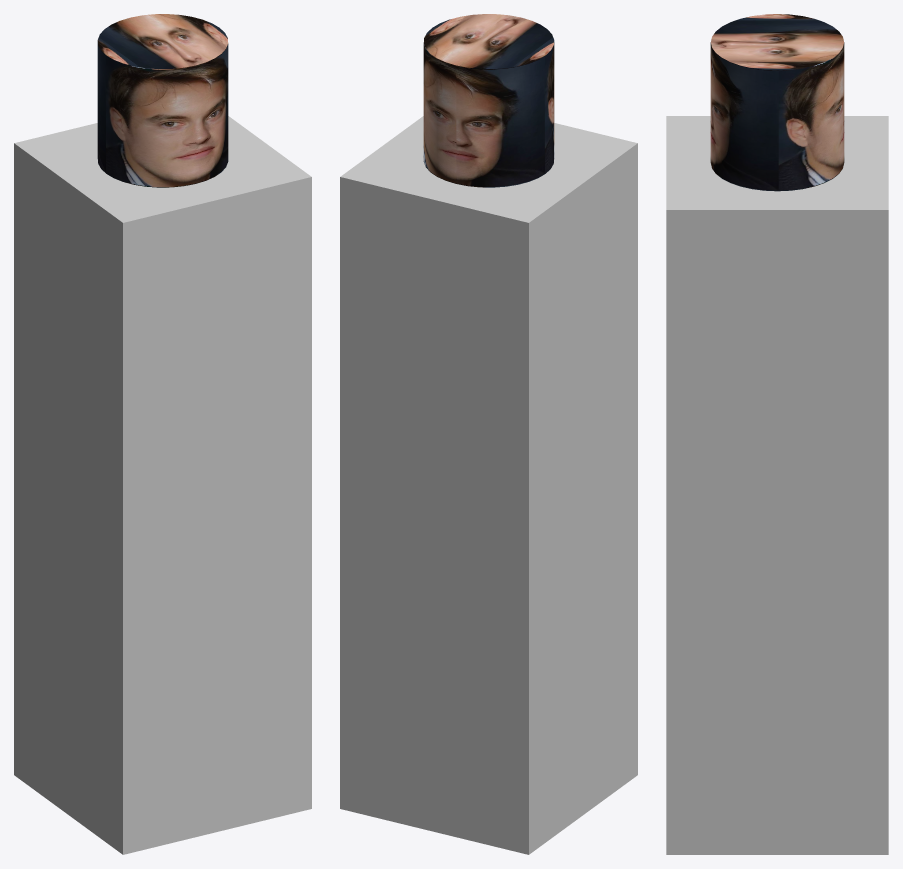
Rendered from Person2.dae.
The picture shows the model from 3 angles, left to right: view 1: azimuth 30°, elevation 25°; view 2: azimuth 150°, elevation 25°; view 3: azimuth 270°, elevation 25°; orthographic projection. The views are drawn at different scales.
Visible parts, largest first — view 1: 立方体, 柱体; view 2: 立方体, 柱体; view 3: 立方体, 柱体.
Part boxes in pixels (x1,y1,x2,y2): 立方体: [14, 116, 311, 854]; 柱体: [97, 14, 228, 187]; 立方体: [340, 116, 637, 854]; 柱体: [423, 14, 554, 187]; 立方体: [666, 116, 888, 854]; 柱体: [710, 14, 844, 191].
Size of the model in its own units: 0.5 by 0.5 by 1.9.
Materials: 1 (1 with a texture image).
